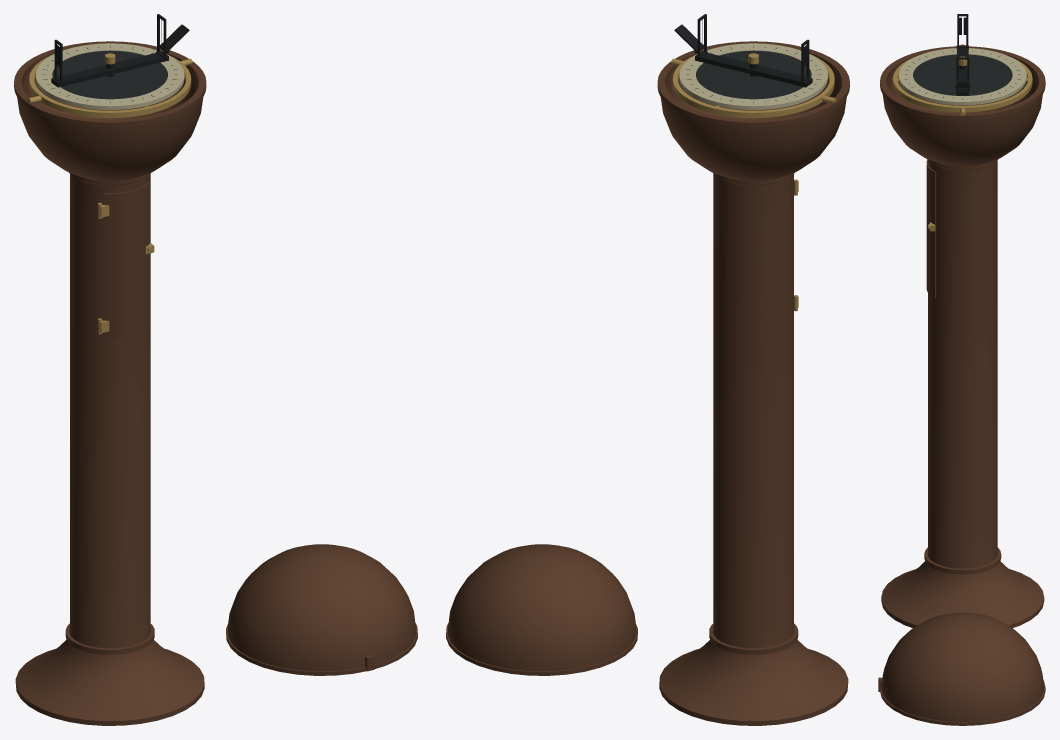
The model's file is NEW687_Pelorus_LOD1_v001.glb.
3 views of the same model, side by side, from view 1: azimuth 30°, elevation 25°; view 2: azimuth 150°, elevation 25°; view 3: azimuth 270°, elevation 25° (orthographic). The views are drawn at different scales.
Parts seen in each view (by area): view 1: Pedestal_foot_column, Detached_complete_hood, Upper_bowl, Curved_access_door, Azimuth_plate_brass_rim, Dark_glass_dial_face, Bowl_rim, External_gimbal_ring, Black_alidade, Hood_lower_band, Lower_column_collar; view 2: Pedestal_foot_column, Detached_complete_hood, Upper_bowl, Azimuth_plate_brass_rim, Dark_glass_dial_face, Bowl_rim, External_gimbal_ring, Black_alidade, Hood_lower_band, Lower_column_collar; view 3: Pedestal_foot_column, Detached_complete_hood, Upper_bowl, Dark_glass_dial_face, Azimuth_plate_brass_rim, Bowl_rim, Curved_access_door, External_gimbal_ring, Hood_lower_band, Lower_column_collar, Black_alidade.
Boxes of the visible parts, x1=… form: Pedestal_foot_column: x1=15, y1=172, x2=204, y2=725; Detached_complete_hood: x1=227, y1=544, x2=416, y2=671; Upper_bowl: x1=17, y1=68, x2=203, y2=181; Curved_access_door: x1=103, y1=182, x2=149, y2=340; Azimuth_plate_brass_rim: x1=35, y1=43, x2=184, y2=109; Dark_glass_dial_face: x1=52, y1=50, x2=167, y2=99; Bowl_rim: x1=14, y1=41, x2=206, y2=127; External_gimbal_ring: x1=29, y1=54, x2=191, y2=118; Black_alidade: x1=51, y1=51, x2=168, y2=87; Hood_lower_band: x1=226, y1=623, x2=417, y2=675; Lower_column_collar: x1=65, y1=623, x2=154, y2=654; Pedestal_foot_column: x1=659, y1=172, x2=848, y2=725; Detached_complete_hood: x1=447, y1=544, x2=636, y2=671; Upper_bowl: x1=660, y1=68, x2=846, y2=181; Azimuth_plate_brass_rim: x1=679, y1=43, x2=828, y2=109; Dark_glass_dial_face: x1=696, y1=50, x2=811, y2=99; Bowl_rim: x1=657, y1=41, x2=849, y2=127; External_gimbal_ring: x1=672, y1=54, x2=834, y2=118; Black_alidade: x1=695, y1=51, x2=812, y2=87; Hood_lower_band: x1=446, y1=623, x2=637, y2=675; Lower_column_collar: x1=709, y1=623, x2=798, y2=654; Pedestal_foot_column: x1=881, y1=159, x2=1044, y2=627; Detached_complete_hood: x1=881, y1=612, x2=1044, y2=721; Upper_bowl: x1=882, y1=70, x2=1042, y2=166; Dark_glass_dial_face: x1=913, y1=54, x2=1012, y2=95; Azimuth_plate_brass_rim: x1=898, y1=48, x2=1026, y2=105; Bowl_rim: x1=880, y1=46, x2=1045, y2=120; Curved_access_door: x1=926, y1=160, x2=936, y2=298; External_gimbal_ring: x1=893, y1=57, x2=1032, y2=112; Hood_lower_band: x1=880, y1=680, x2=1045, y2=725; Lower_column_collar: x1=924, y1=547, x2=1001, y2=574; Black_alidade: x1=957, y1=45, x2=968, y2=95.
Bounding box in the file's own units: 0.822 × 1.36 × 0.3655.
